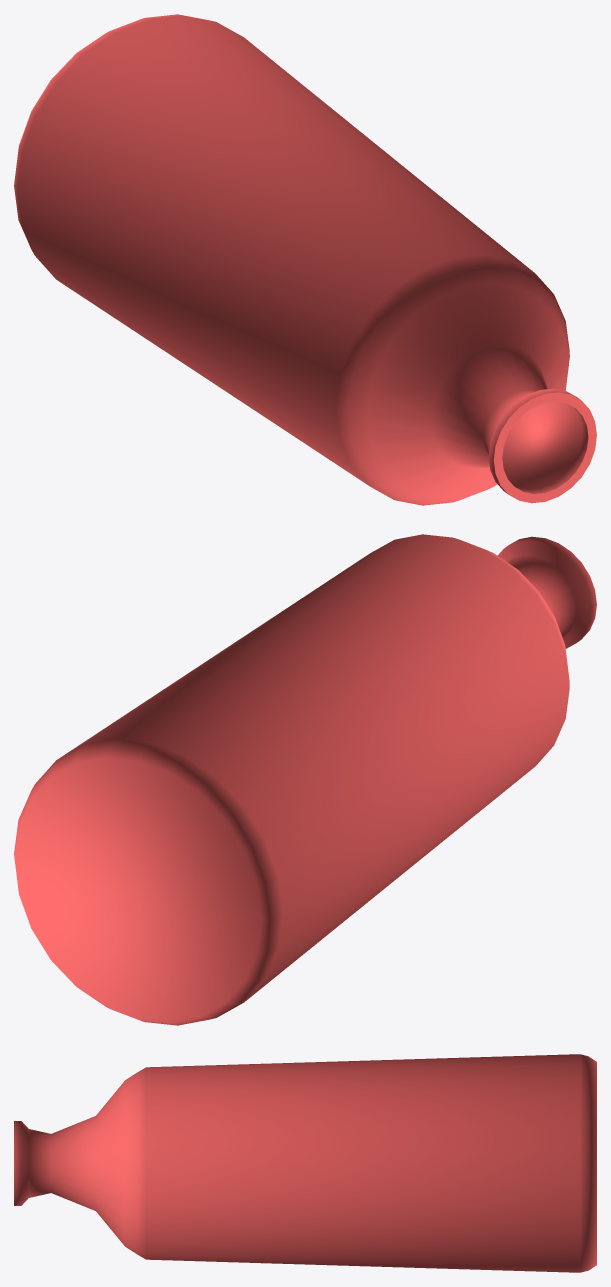
The model's file is model_align.obj.
3 views of the same model, one above another, from view 1: azimuth 30°, elevation 25°; view 2: azimuth 150°, elevation 25°; view 3: azimuth 270°, elevation 25° (orthographic). The views are drawn at different scales.
Parts seen in each view (by area): view 1: mesh1_mesh1-geometry; view 2: mesh1_mesh1-geometry; view 3: mesh1_mesh1-geometry.
Boxes of the visible parts, <box> form: mesh1_mesh1-geometry: <box>14,14,596,505</box>; mesh1_mesh1-geometry: <box>14,534,596,1025</box>; mesh1_mesh1-geometry: <box>14,1054,596,1272</box>.
Bounding box in the file's own units: 0.0516 × 0.0516 × 0.1371.
